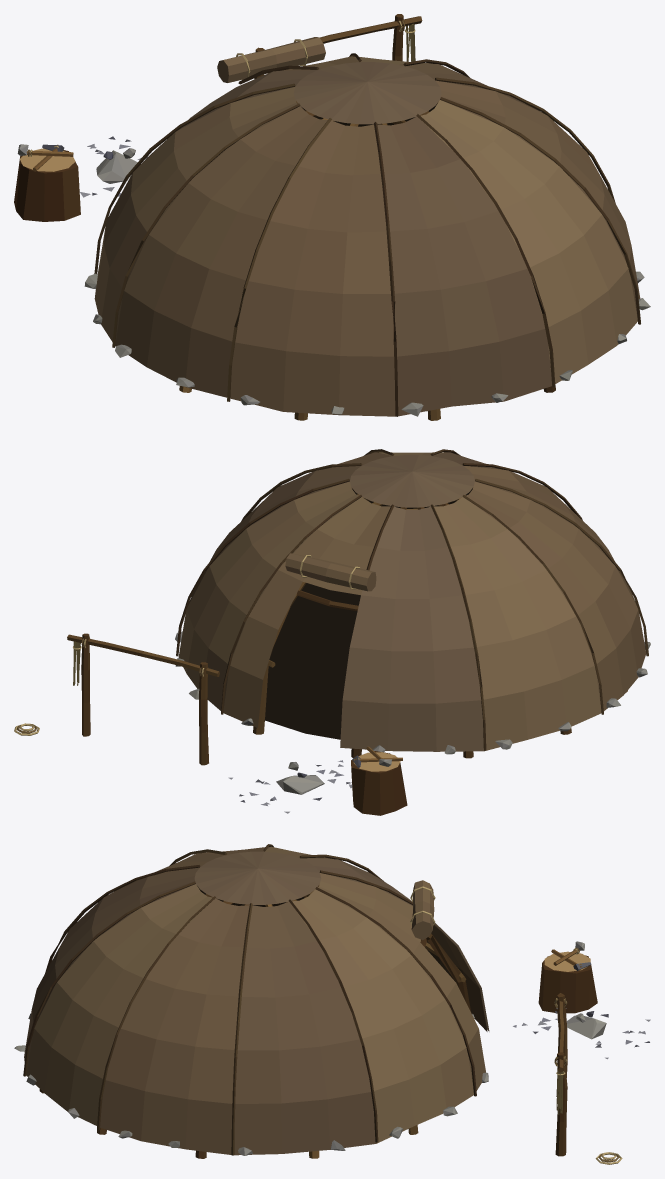
The model's file is toolmaker_hut_3_finita.glb.
3 renders of one model, top to bottom at view 1: azimuth 30°, elevation 25°; view 2: azimuth 150°, elevation 25°; view 3: azimuth 270°, elevation 25°, orthographic. The views are drawn at different scales.
Parts seen in each view (by area): view 1: toolmaker_hut_3_finita; view 2: toolmaker_hut_3_finita; view 3: toolmaker_hut_3_finita.
Boxes of the visible parts, x1=… form: toolmaker_hut_3_finita: x1=14, y1=14, x2=650, y2=420; toolmaker_hut_3_finita: x1=14, y1=449, x2=650, y2=815; toolmaker_hut_3_finita: x1=14, y1=844, x2=650, y2=1164.
Size of the model in its own units: 7.35 by 3.2 by 9.25.
